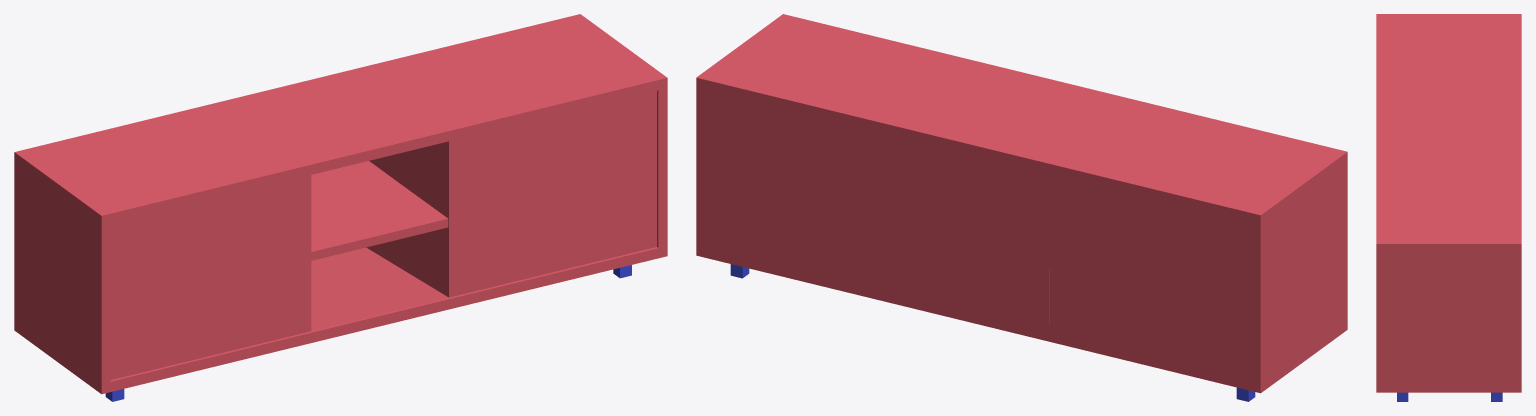
The model's file is TVStand.fbx.
3 renders of one model, left to right at view 1: azimuth 30°, elevation 25°; view 2: azimuth 150°, elevation 25°; view 3: azimuth 270°, elevation 25°, orthographic. The views are drawn at different scales.
Parts seen in each view (by area): view 1: TV_Stand; view 2: TV_Stand; view 3: TV_Stand, TV_StandLegs.
Boxes of the visible parts, x1,y1,x2,y2 form: TV_Stand: [14, 14, 667, 394]; TV_Stand: [696, 14, 1347, 393]; TV_Stand: [1376, 14, 1521, 392]; TV_StandLegs: [1397, 392, 1502, 401].
Size of the model in its own units: 358 by 121 by 95.49.
